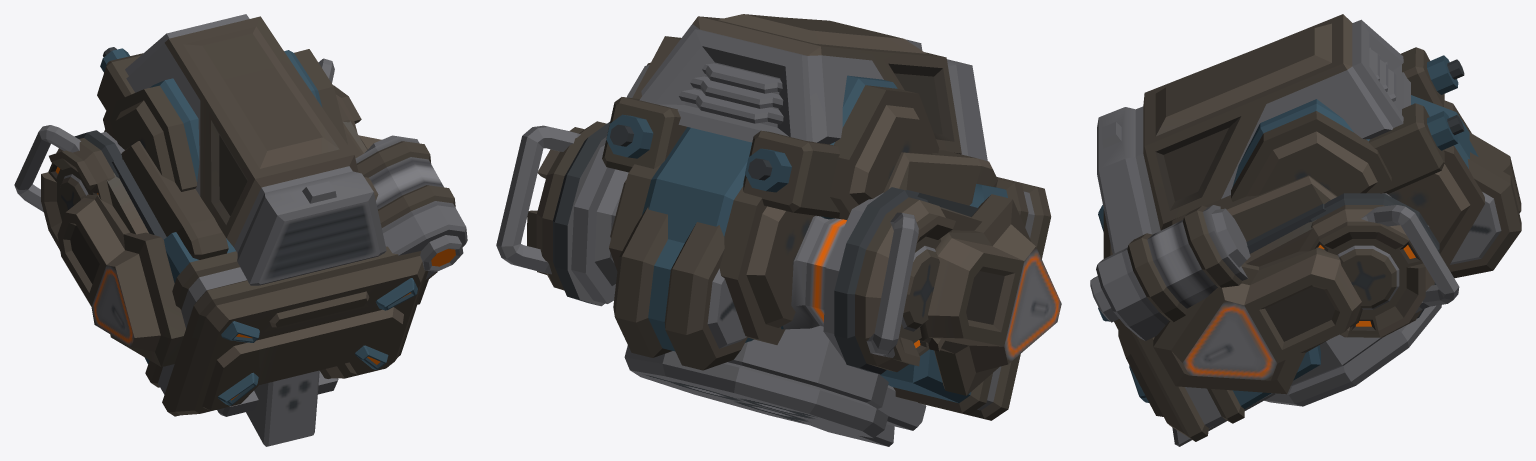
Rendered from SM_Mech_Head_01_Armor_Helmet_03.fbx.
The picture shows the model from 3 angles, left to right: view 1: azimuth 30°, elevation 25°; view 2: azimuth 150°, elevation 25°; view 3: azimuth 270°, elevation 25°; orthographic projection. The views are drawn at different scales.
Parts seen in each view (by area): view 1: SM_Mech_Head_01_Armor_Helmet_03; view 2: SM_Mech_Head_01_Armor_Helmet_03; view 3: SM_Mech_Head_01_Armor_Helmet_03.
Boxes of the visible parts, bbox=[...] form: SM_Mech_Head_01_Armor_Helmet_03: bbox=[14, 14, 467, 446]; SM_Mech_Head_01_Armor_Helmet_03: bbox=[496, 14, 1061, 446]; SM_Mech_Head_01_Armor_Helmet_03: bbox=[1090, 14, 1521, 446].
Bounding box in the file's own units: 67.53 × 75.35 × 74.38.
